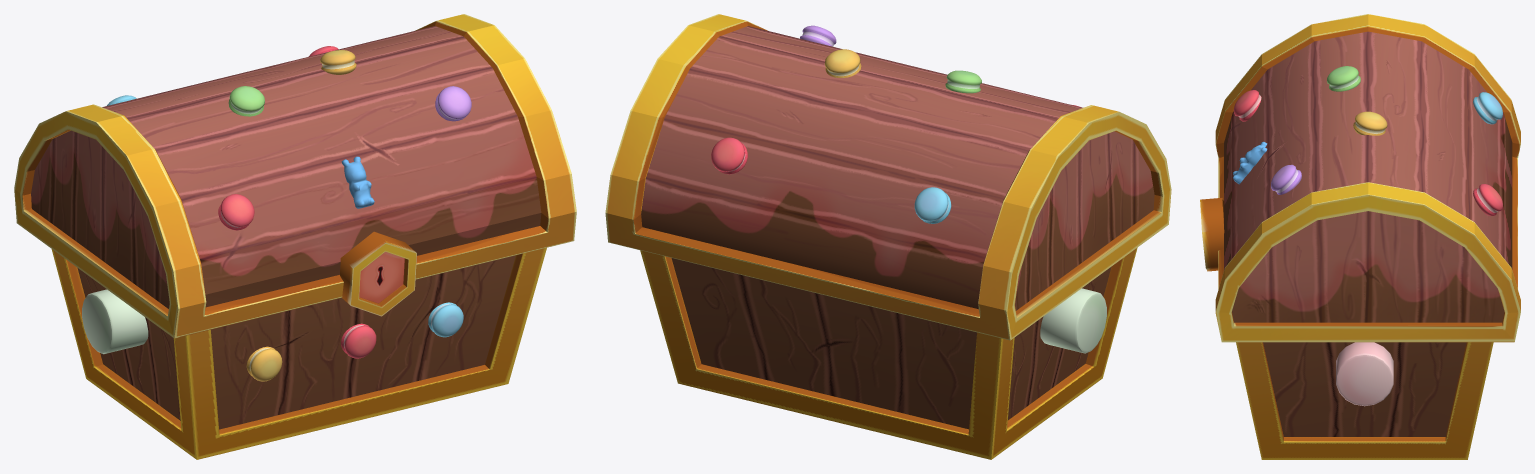
The model's file is chest 1.FBX.
3 renders of one model, left to right at view 1: azimuth 30°, elevation 25°; view 2: azimuth 150°, elevation 25°; view 3: azimuth 270°, elevation 25°, orthographic. The views are drawn at different scales.
Visible parts, largest first — view 1: Cylinder001, Box001, Cylinder003, Sphere004, Sphere003, CHP_MOD_Gummy_bear_blue, Sphere010, Sphere009, Sphere011, Sphere012, Sphere008; view 2: Cylinder001, Box001, Cylinder003, Sphere006, Sphere007, Sphere008, Sphere012; view 3: Cylinder001, Box001, Cylinder002, Sphere012, Sphere008, Sphere007, Sphere006, Sphere003, Sphere004, CHP_MOD_Gummy_bear_blue.
Part boxes in pixels (<box>): Cylinder001: <box>14,14,576,338</box>; Box001: <box>51,247,546,459</box>; Cylinder003: <box>82,289,148,354</box>; Sphere004: <box>218,194,254,230</box>; Sphere003: <box>435,86,471,121</box>; CHP_MOD_Gummy_bear_blue: <box>341,156,374,208</box>; Sphere010: <box>428,302,463,337</box>; Sphere009: <box>246,346,282,381</box>; Sphere011: <box>341,323,376,358</box>; Sphere012: <box>228,86,264,116</box>; Sphere008: <box>320,50,356,74</box>; Cylinder001: <box>605,14,1171,340</box>; Box001: <box>640,247,1137,459</box>; Cylinder003: <box>1040,288,1106,353</box>; Sphere006: <box>711,137,747,174</box>; Sphere007: <box>914,187,951,223</box>; Sphere008: <box>824,49,861,77</box>; Sphere012: <box>945,70,981,93</box>; Cylinder001: <box>1200,14,1520,342</box>; Box001: <box>1236,342,1493,459</box>; Cylinder002: <box>1336,342,1393,406</box>; Sphere012: <box>1327,66,1360,91</box>; Sphere008: <box>1353,111,1387,135</box>; Sphere007: <box>1473,92,1502,124</box>; Sphere006: <box>1473,184,1502,215</box>; Sphere003: <box>1271,164,1301,194</box>; Sphere004: <box>1233,90,1261,121</box>; CHP_MOD_Gummy_bear_blue: <box>1233,141,1267,184</box>.
Size of the model in its own units: 20.11 by 15.19 by 14.99.
